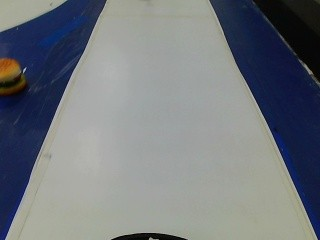burger: (0, 54, 29, 100)
